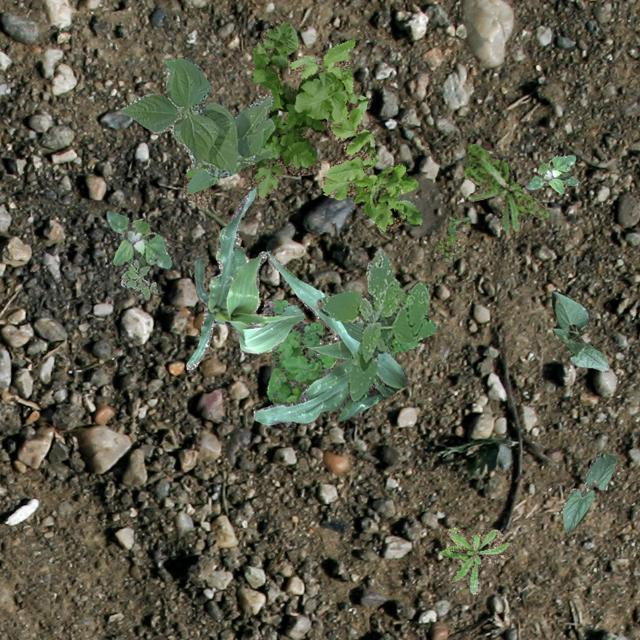crop: (253, 250, 407, 424), (185, 185, 304, 368), (120, 56, 274, 192), (550, 290, 608, 370), (562, 452, 616, 532)
weed: (182, 18, 346, 208), (288, 38, 420, 232), (314, 247, 434, 401), (262, 298, 336, 428), (463, 142, 548, 232), (440, 526, 514, 594), (106, 210, 172, 268), (526, 154, 578, 192), (388, 293, 418, 357), (434, 216, 470, 260), (120, 258, 156, 298)
